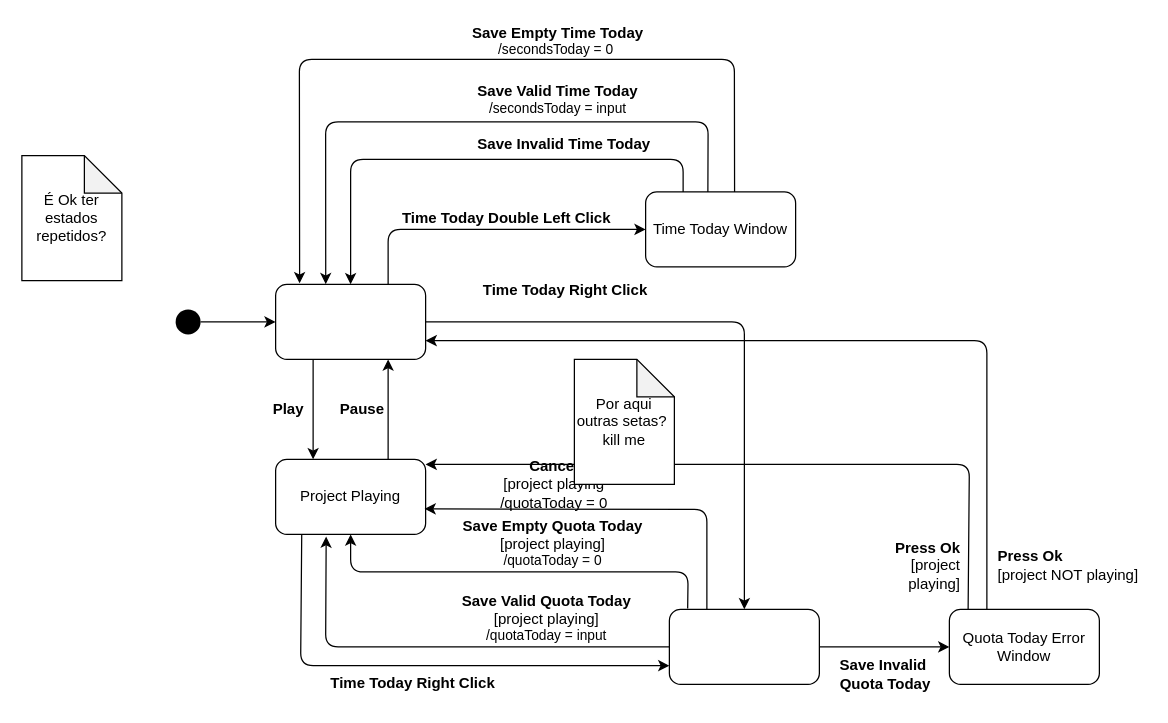
This 1168x723 diagram has some shape labels left out. Each missing label, with the centre of its shape:
Project Idle: the point at 350,321
Quota Today Window: the point at 743,646
